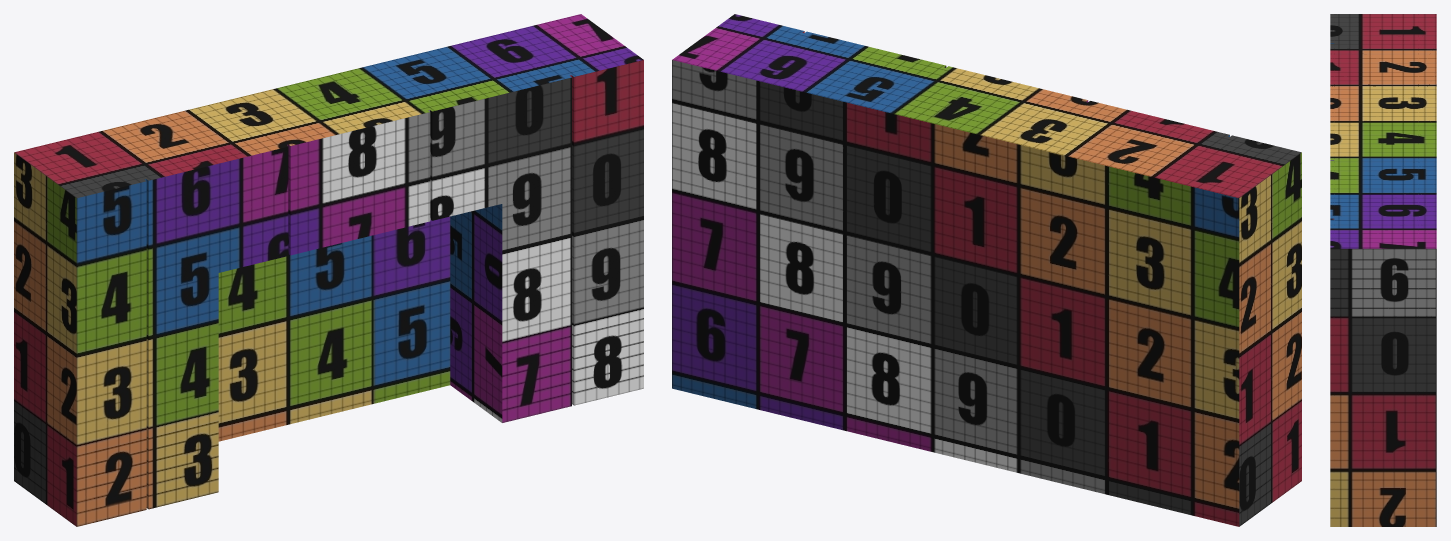
Rendered from Wardrobe_1.FBX.
3 views of the same model, side by side, from view 1: azimuth 30°, elevation 25°; view 2: azimuth 150°, elevation 25°; view 3: azimuth 270°, elevation 25° (orthographic). The views are drawn at different scales.
Parts seen in each view (by area): view 1: Wardrobe_1; view 2: Wardrobe_1; view 3: Wardrobe_1.
Boxes of the visible parts, bbox=[...] form: Wardrobe_1: bbox=[14, 14, 643, 526]; Wardrobe_1: bbox=[672, 14, 1301, 526]; Wardrobe_1: bbox=[1330, 14, 1436, 526].
Size of the model in its own units: 6.42 by 3.55 by 1.23.
